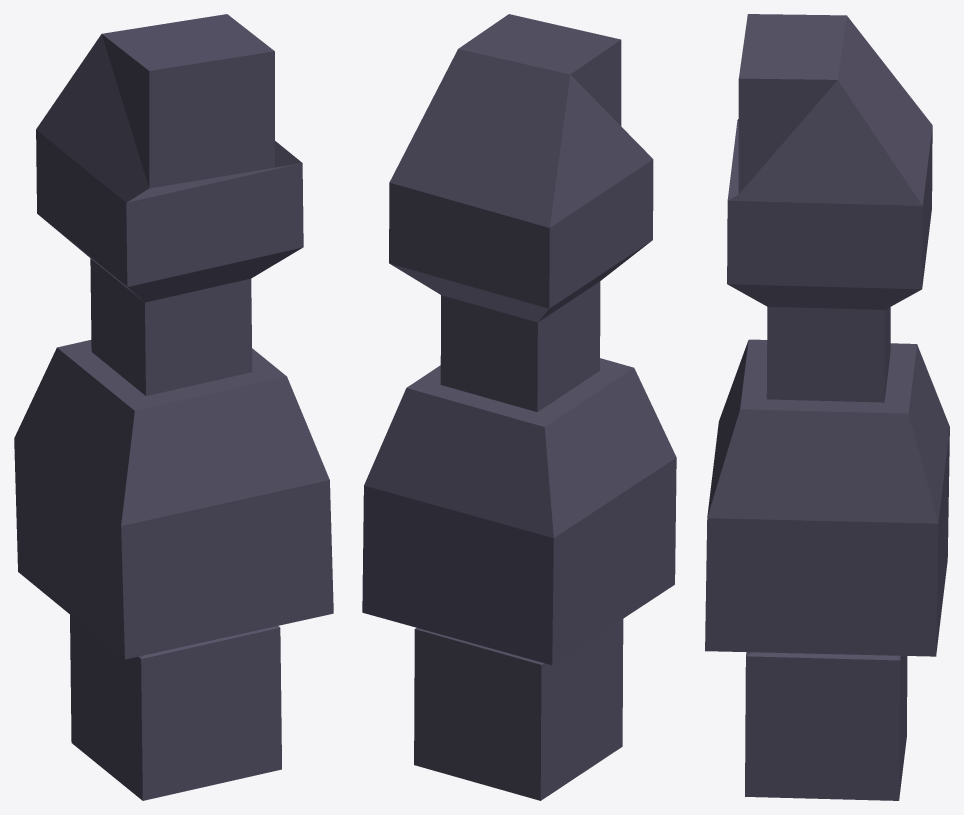
The model's file is Robo-KnightLeftHand.fbx.
3 renders of one model, left to right at view 1: azimuth 30°, elevation 25°; view 2: azimuth 150°, elevation 25°; view 3: azimuth 270°, elevation 25°, orthographic. The views are drawn at different scales.
Visible parts, largest first — view 1: polySurface512; view 2: polySurface512; view 3: polySurface512.
Part boxes in pixels (box(x1,y1,x2,y2)): polySurface512: box(14, 14, 333, 800); polySurface512: box(362, 14, 676, 800); polySurface512: box(705, 14, 949, 800).
Bounding box in the file's own units: 59.37 × 192 × 59.14.
